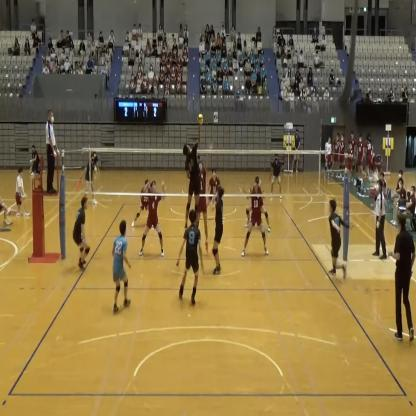spike: (180, 110, 206, 240)
